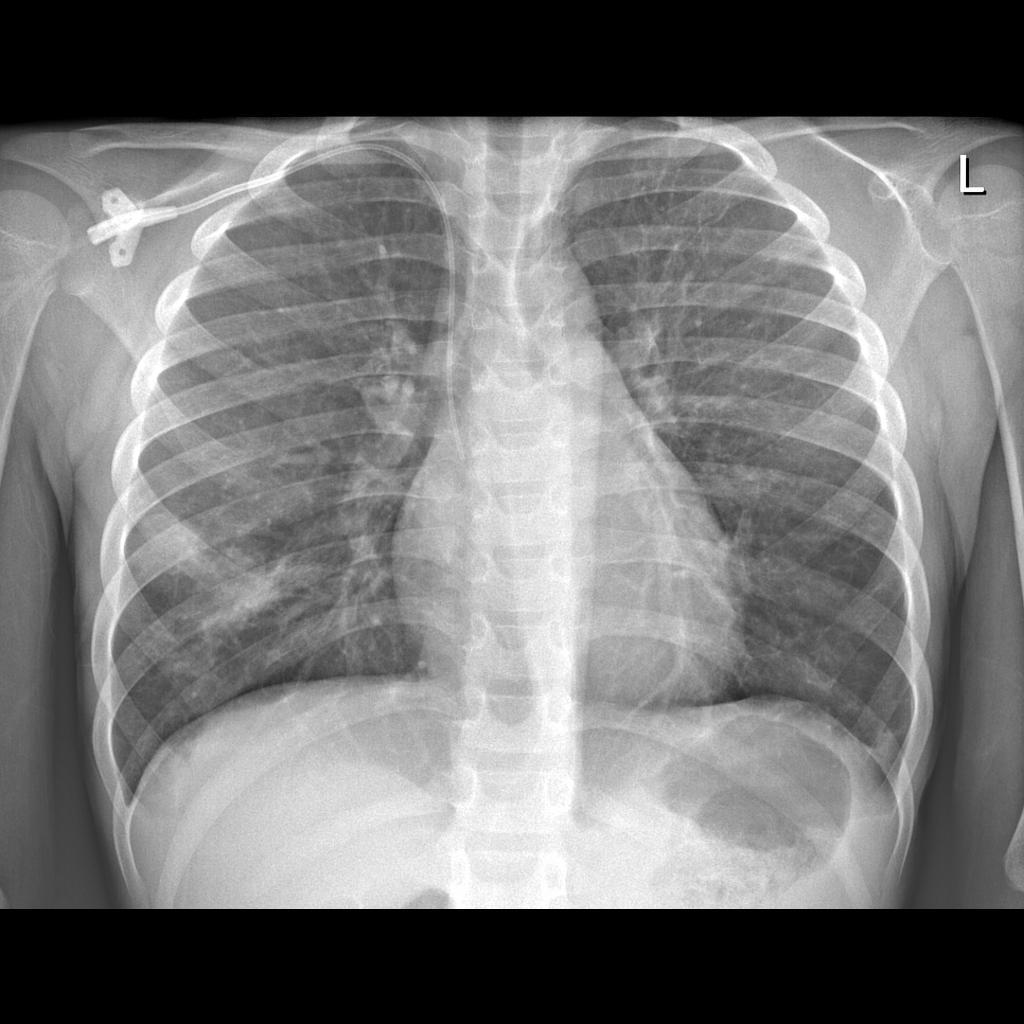Nodule: (211, 567, 311, 632)
